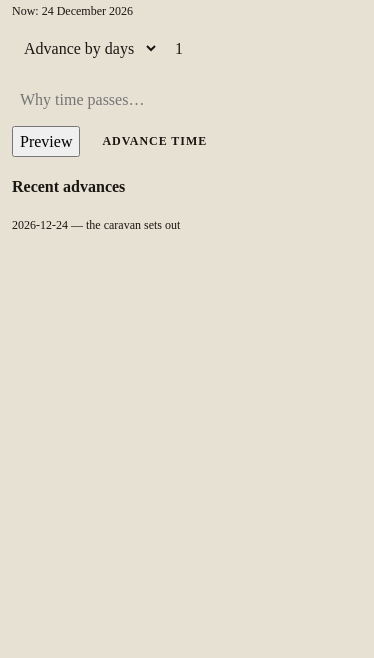
Test: a backward move is labelled as one
Expected: the text "Now: 24 December 2026" is shown, [12,4,133,18]
What coordinates should you click on to do the following:
click the button "Preview"
I would click on:
 (46, 142)
Its box is [12,126,80,157].
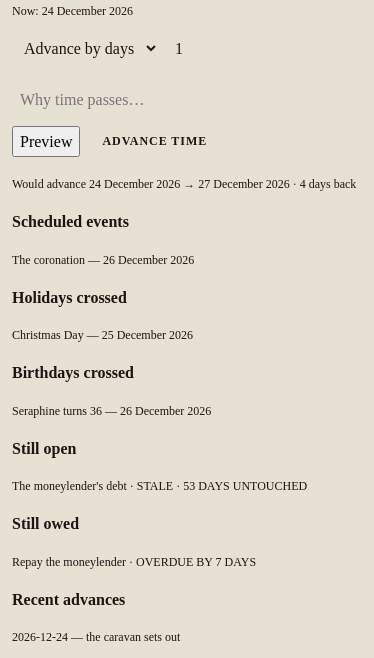
Result: the text "4 days back" is shown at [300,177,356,191]
